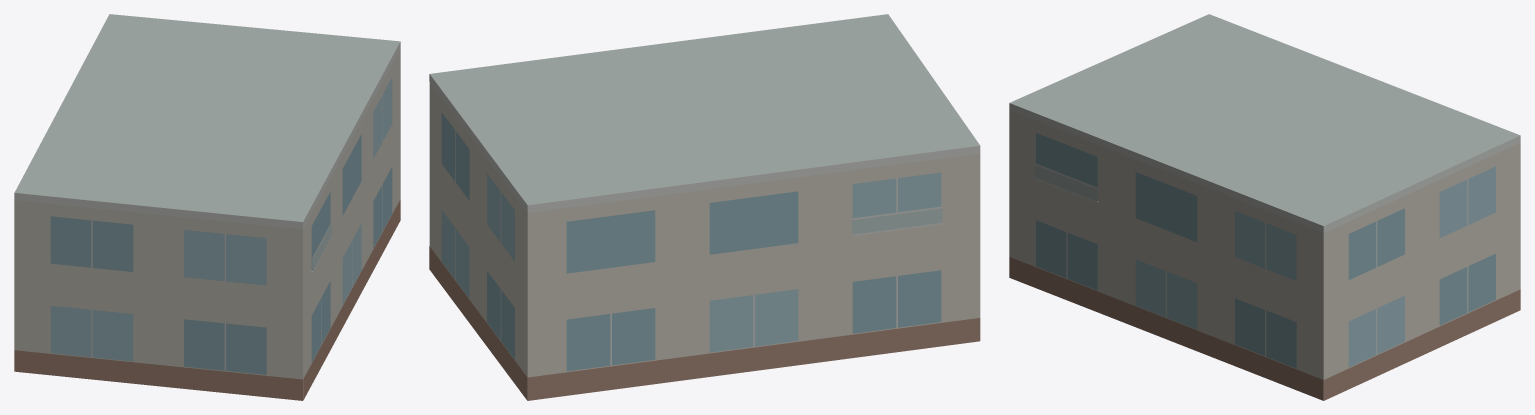
File: survey-upis-32717661.glb
3 renders of one model, left to right at view 1: azimuth 30°, elevation 25°; view 2: azimuth 150°, elevation 25°; view 3: azimuth 270°, elevation 25°, orthographic. The views are drawn at different scales.
Parts seen in each view (by area): view 1: survey-upis-32717661.tmp; view 2: survey-upis-32717661.tmp; view 3: survey-upis-32717661.tmp.
Boxes of the visible parts, <box> form: survey-upis-32717661.tmp: <box>14,14,400,400</box>; survey-upis-32717661.tmp: <box>429,14,980,400</box>; survey-upis-32717661.tmp: <box>1009,14,1520,400</box>.
Bounding box in the file's own units: 15.9 × 6.1 × 16.19.
